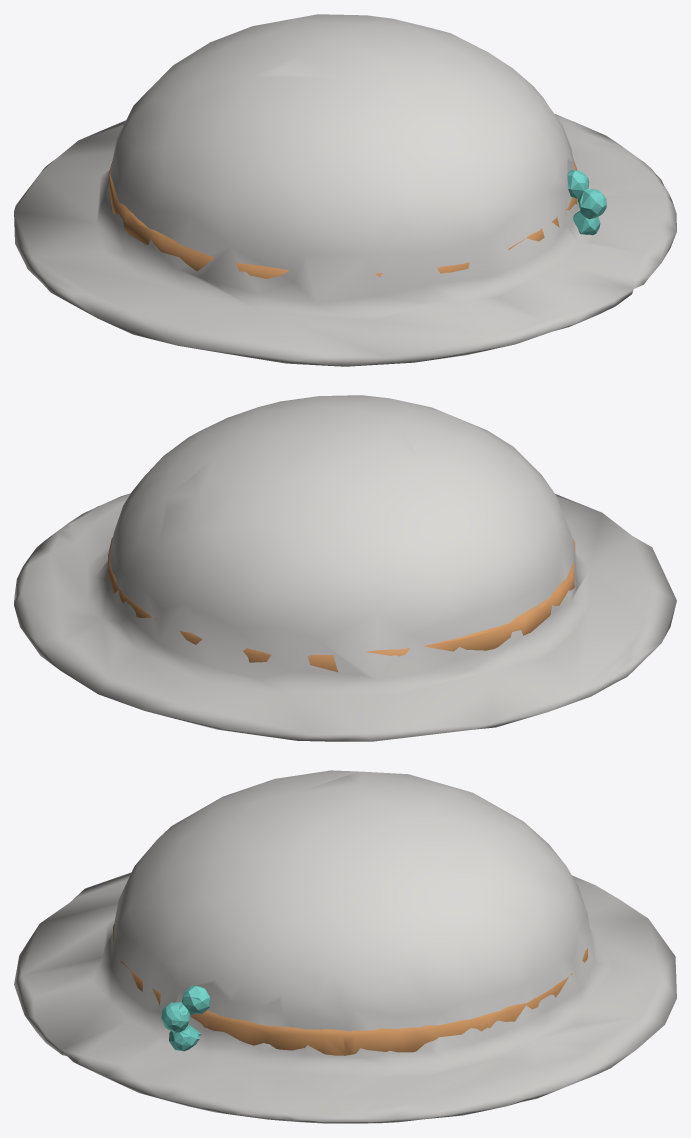
File: tenue_lagon.glb
3 renders of one model, top to bottom at view 1: azimuth 30°, elevation 25°; view 2: azimuth 150°, elevation 25°; view 3: azimuth 270°, elevation 25°, orthographic.
Visible parts, largest first — view 1: head__coiffe, head__coiffe_glow; view 2: head__coiffe; view 3: head__coiffe, head__coiffe_glow.
Boxes of the visible parts, x1,y1,x2,y2 form: head__coiffe: (14, 14, 676, 366); head__coiffe_glow: (567, 170, 606, 235); head__coiffe: (14, 395, 676, 741); head__coiffe: (14, 770, 676, 1123); head__coiffe_glow: (161, 985, 210, 1051).
Size of the model in its own units: 0.7407 by 0.2416 by 0.7287.
